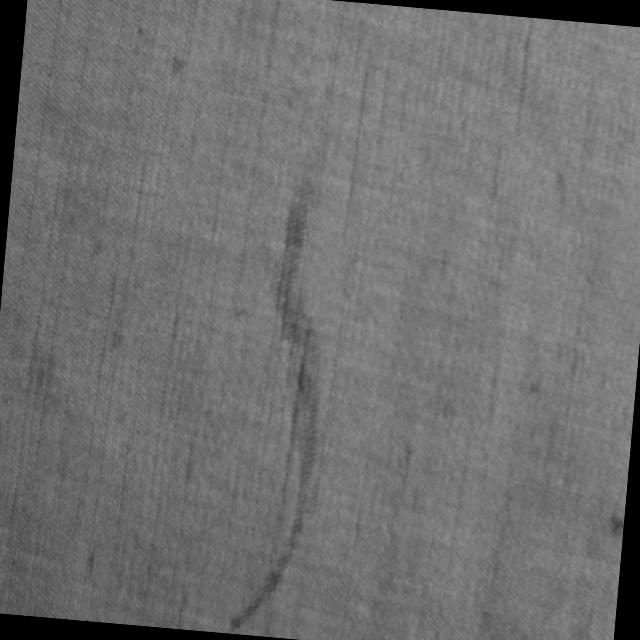oil spot: (225, 171, 348, 639)
